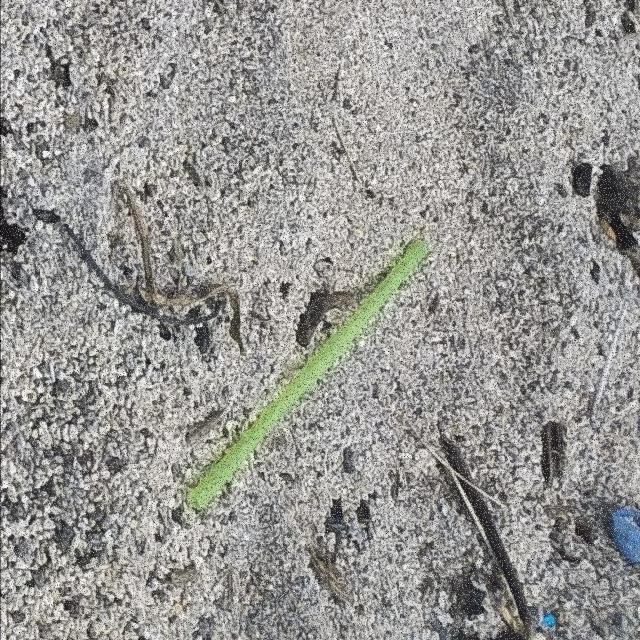plastic_waste: (187, 239, 430, 512)
